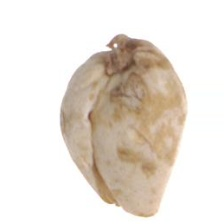L1: (92, 166, 157, 217), (100, 33, 143, 72)
L2: (61, 35, 188, 218)
